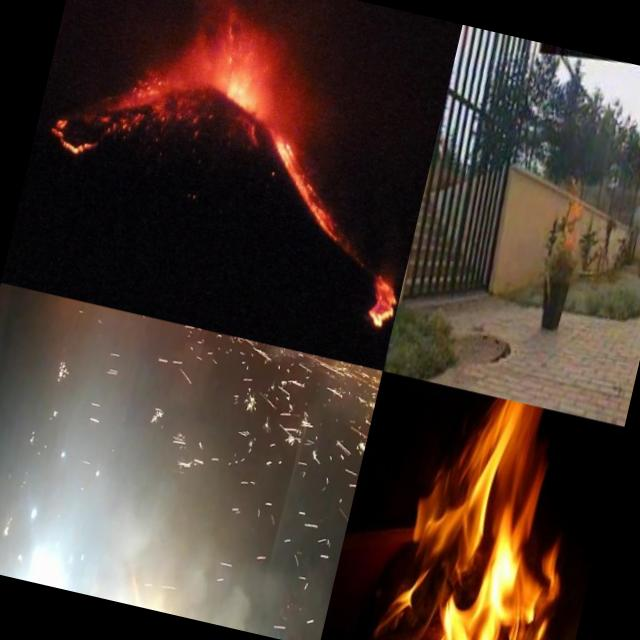fire: (366, 394, 616, 640), (213, 19, 280, 115), (215, 552, 283, 636), (552, 168, 596, 254), (362, 266, 404, 332)
